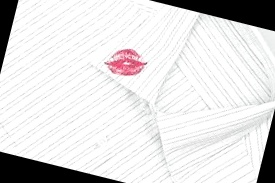lipstick: (107, 45, 149, 79)
